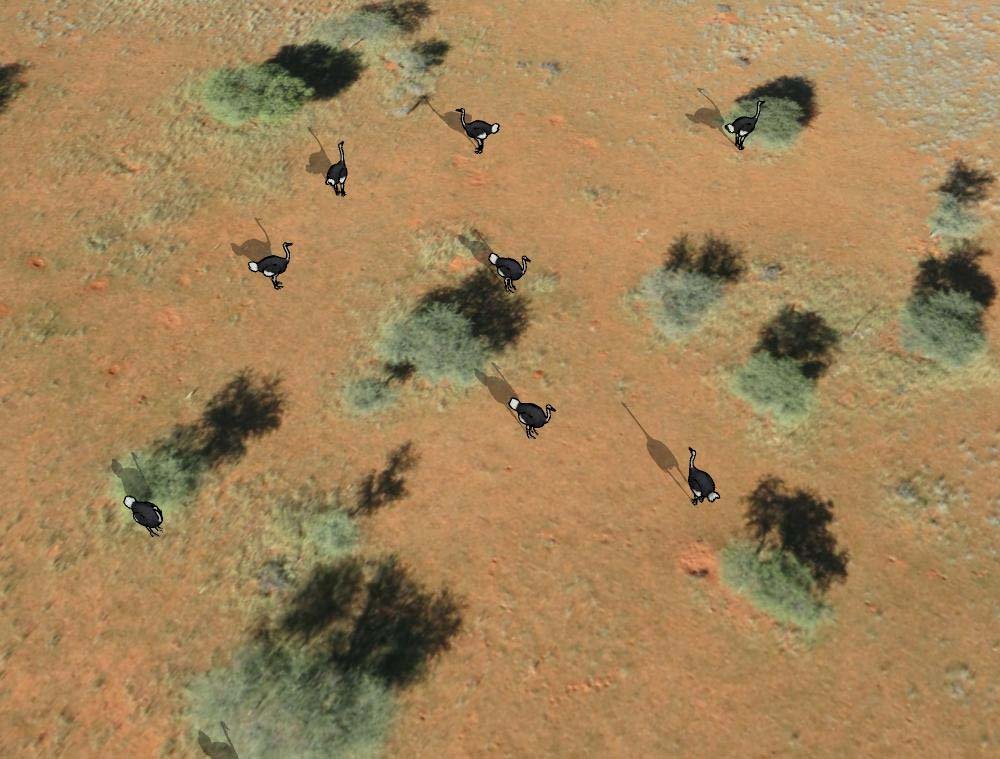springbok: (682, 438, 724, 511), (451, 104, 504, 157), (120, 486, 169, 541), (246, 239, 299, 286), (504, 396, 556, 442), (722, 95, 766, 148), (490, 246, 533, 296), (324, 139, 355, 194)
